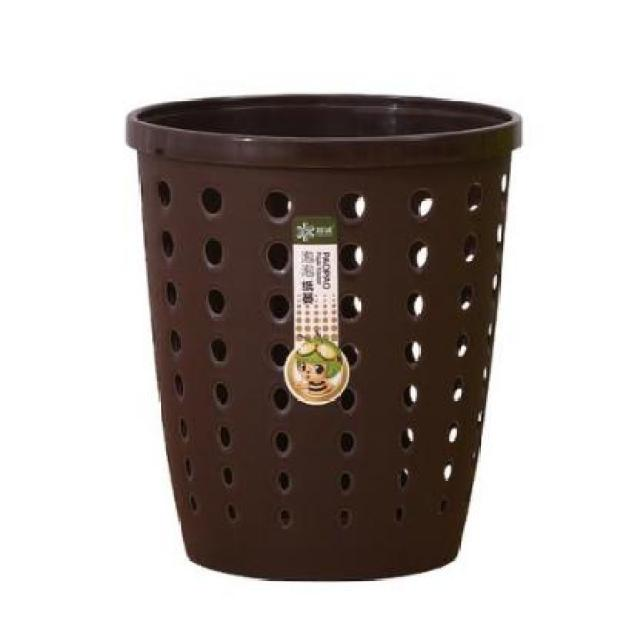dustbin: (120, 85, 528, 587)
